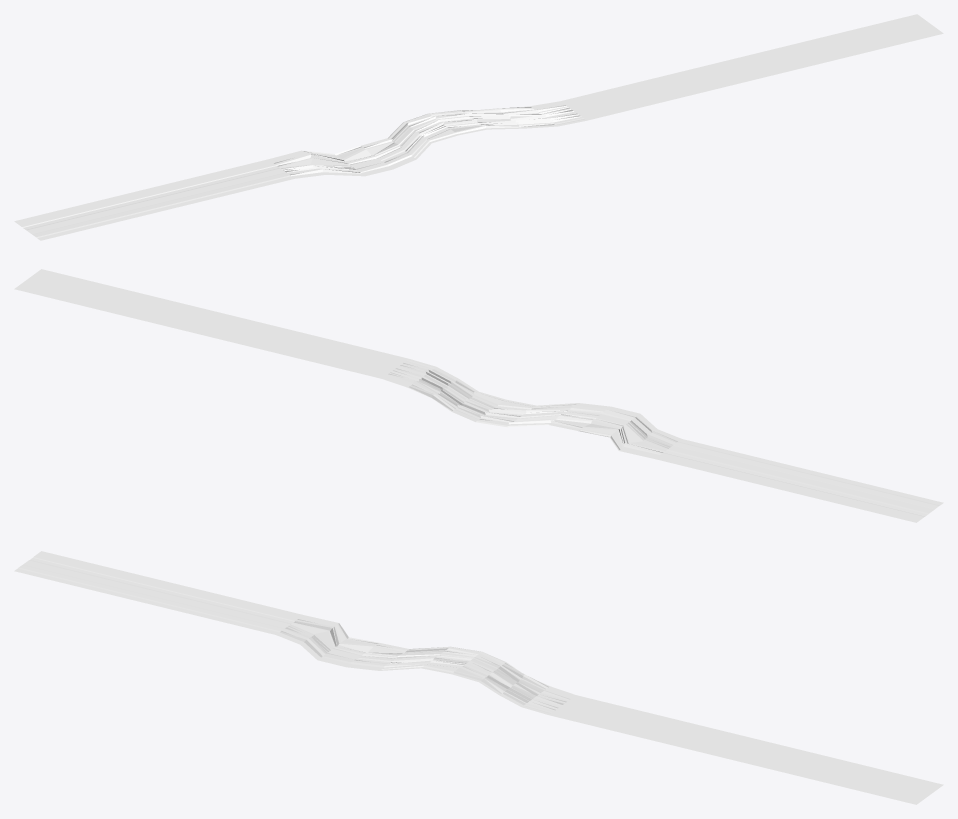
The model's file is SM_River.fbx.
3 renders of one model, top to bottom at view 1: azimuth 30°, elevation 25°; view 2: azimuth 150°, elevation 25°; view 3: azimuth 330°, elevation 25°, orthographic. The views are drawn at different scales.
Visible parts, largest first — view 1: River; view 2: River; view 3: River.
Part boxes in pixels (x1,y1,x2,y2): River: (14, 14, 943, 240); River: (14, 269, 943, 522); River: (14, 551, 943, 804).
Bounding box in the file's own units: 3089 × 32700 × 138.
